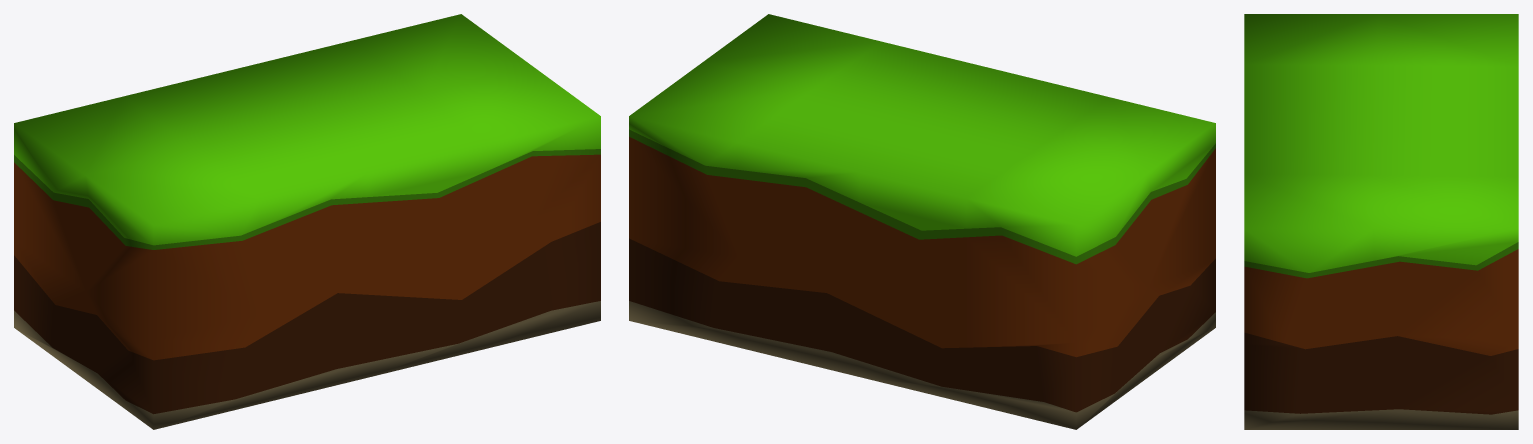
The model's file is hill1.glb.
3 views of the same model, side by side, from view 1: azimuth 30°, elevation 25°; view 2: azimuth 150°, elevation 25°; view 3: azimuth 270°, elevation 25° (orthographic).
Visible parts, largest first — view 1: Hill; view 2: Hill; view 3: Hill.
Part boxes in pixels (bbox=[...]): Hill: bbox=[14, 14, 600, 429]; Hill: bbox=[629, 14, 1215, 429]; Hill: bbox=[1244, 14, 1518, 429].
Bounding box in the file's own units: 15 × 6.56 × 8.1.
Materials: 1 (1 with a texture image).
